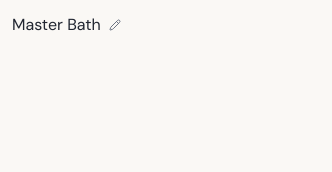
Test: PlanNameEditor UI › C. Escape cancels without calling onSave and exits edit mode
The width and height of the screenshot is (332, 172).
Click the button named "edit project name" at point(115, 25), box [105, 15, 125, 35]
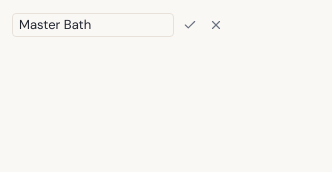
Replace the text in the field named "edit project name" with "Other Name" at point(93, 25), box [12, 13, 174, 37]
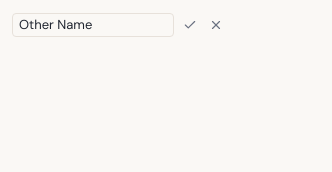
Press Escape in the field named "edit project name", box [12, 13, 174, 37]
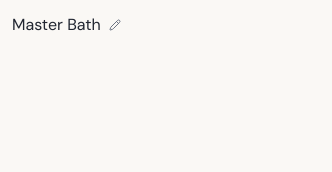
Result: the text "Master Bath" is shown at [12, 13, 101, 37]
